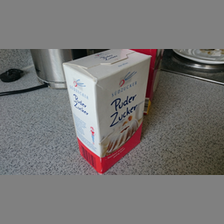tomato_sauce: (60, 50, 151, 174)
